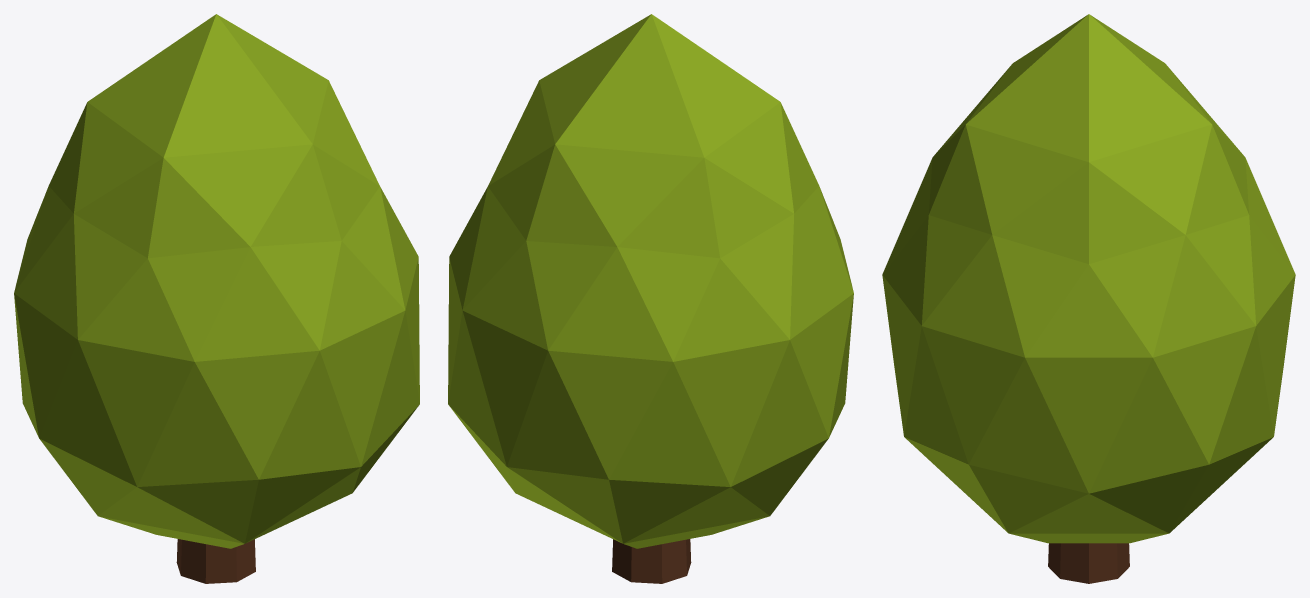
Rendered from bush-1.fbx.
3 views of the same model, side by side, from view 1: azimuth 30°, elevation 25°; view 2: azimuth 150°, elevation 25°; view 3: azimuth 270°, elevation 25° (orthographic).
Parts seen in each view (by area): view 1: bush-1; view 2: bush-1; view 3: bush-1.
Boxes of the visible parts, x1,y1,x2,y2 form: bush-1: (14,14,419,583); bush-1: (448,14,853,583); bush-1: (882,14,1295,583).
Bounding box in the file's own units: 66.4 × 101 × 68.43.
